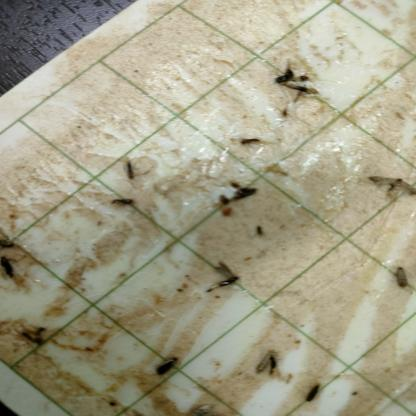prays_oleae: (364, 151, 415, 222), (0, 246, 17, 292), (394, 258, 410, 299)
